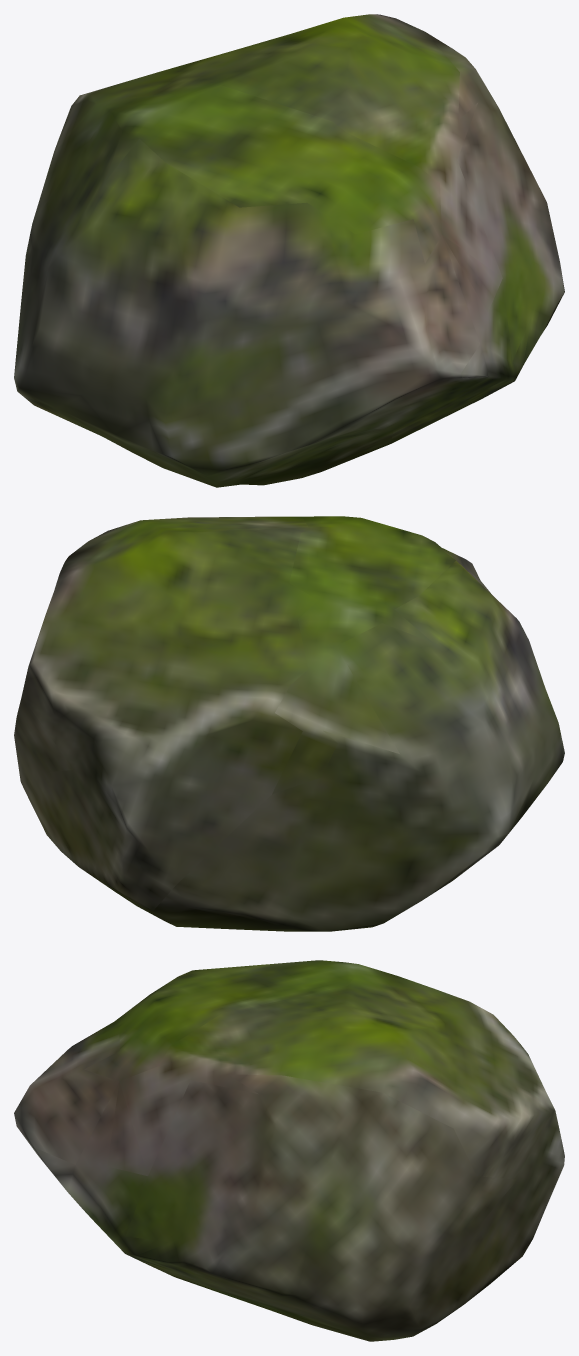
Rendered from Piedra_Mediana.glb.
The picture shows the model from 3 angles, top to bottom: view 1: azimuth 30°, elevation 25°; view 2: azimuth 150°, elevation 25°; view 3: azimuth 270°, elevation 25°; orthographic projection. The views are drawn at different scales.
Parts seen in each view (by area): view 1: Piedra Mediana; view 2: Piedra Mediana; view 3: Piedra Mediana.
Boxes of the visible parts, x1,y1,x2,y2 form: Piedra Mediana: [14, 14, 564, 487]; Piedra Mediana: [14, 516, 564, 931]; Piedra Mediana: [14, 960, 564, 1341].
Size of the model in its own units: 0.0938 by 0.0608 by 0.1044.
1 material, 1 textured.
